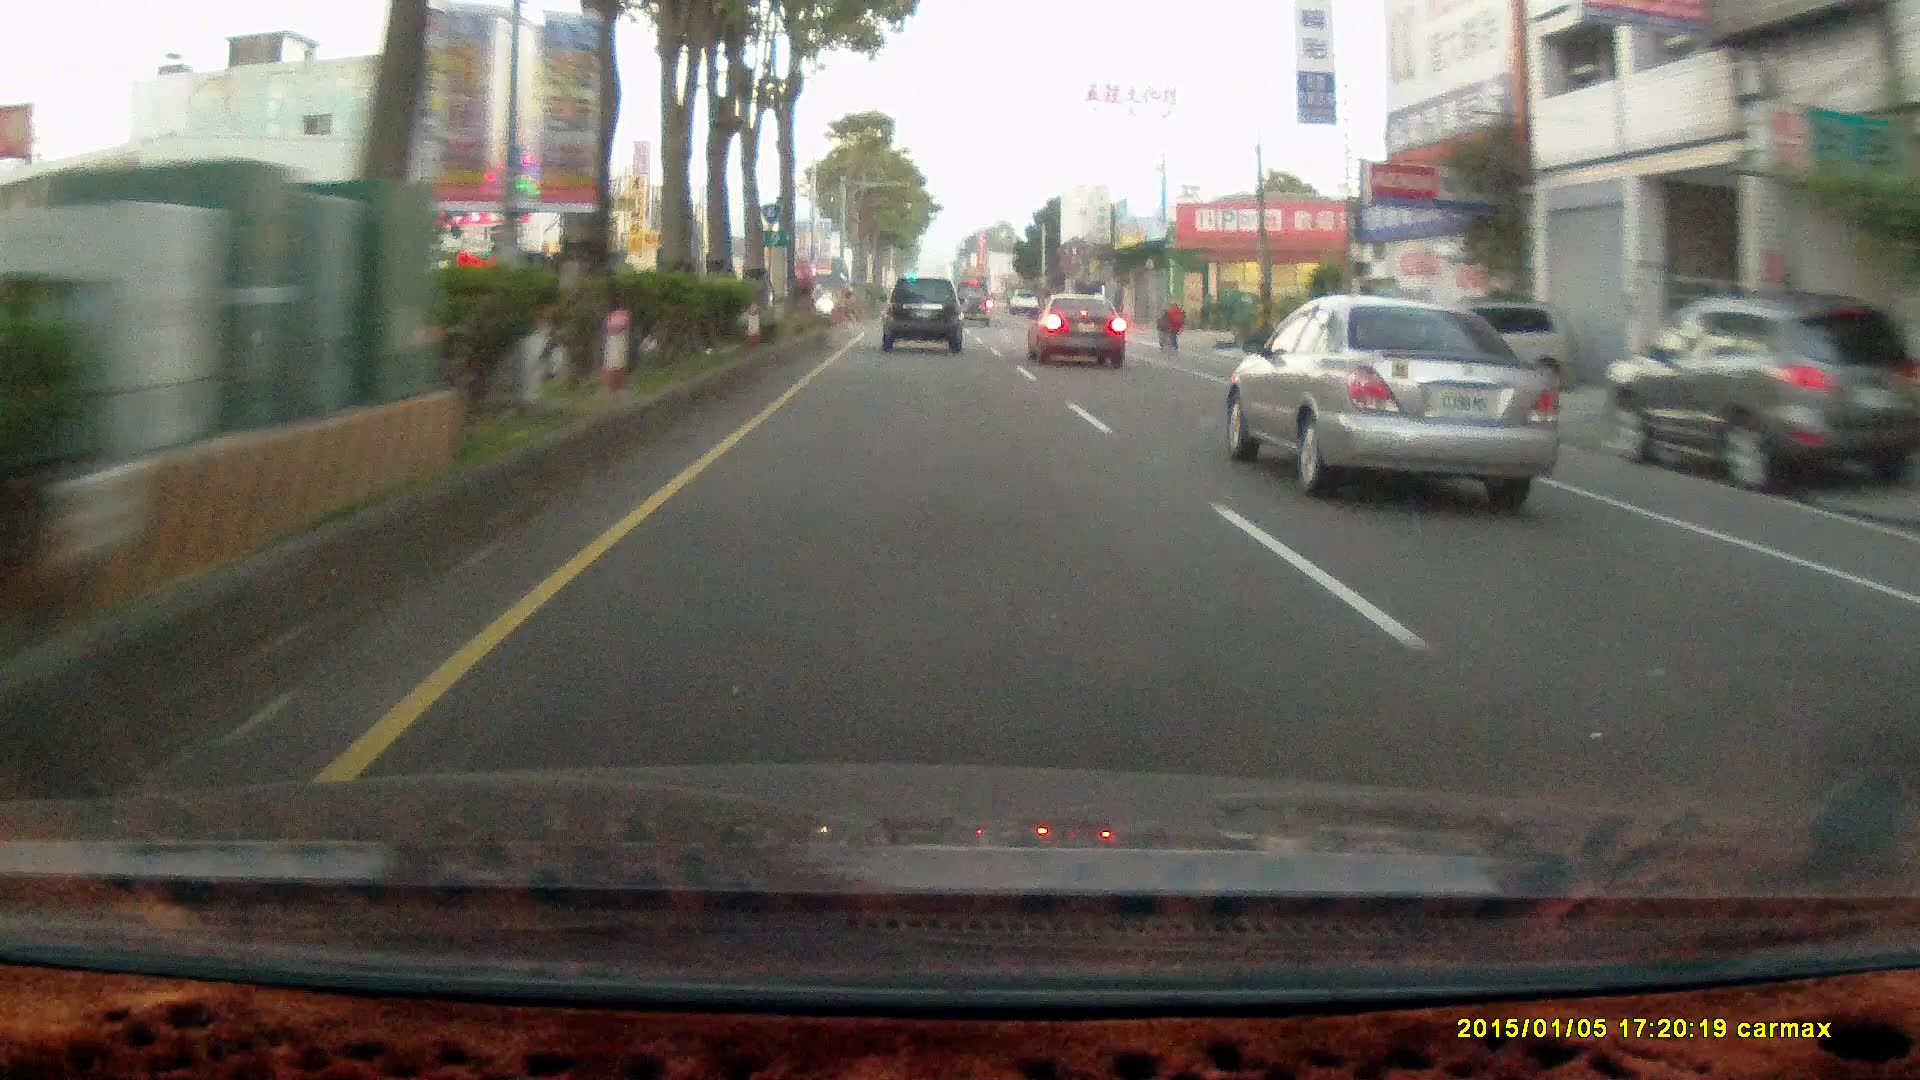pedestrian: (1163, 298, 1185, 353), (1165, 300, 1186, 353)
vehicle: (1231, 296, 1560, 492), (1604, 294, 1909, 496), (1602, 294, 1912, 492), (1386, 298, 1575, 393), (1025, 298, 1130, 374), (1026, 291, 1125, 367), (881, 280, 969, 355), (881, 277, 962, 352), (954, 283, 993, 329)
